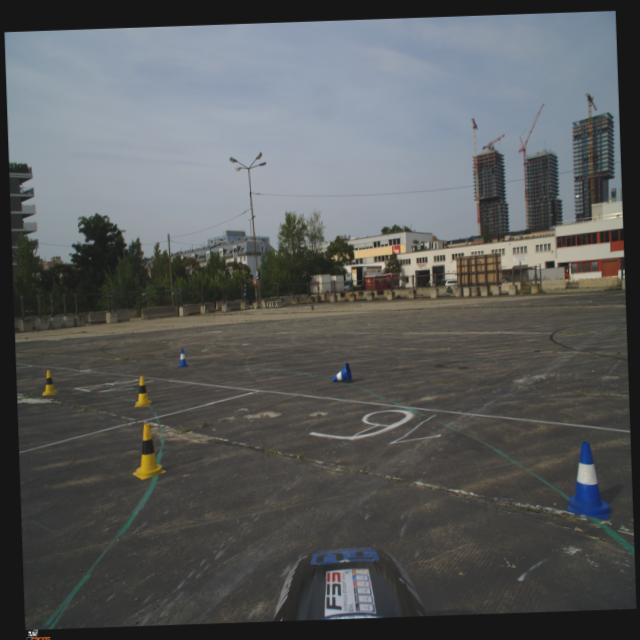blue_cone: (565, 440, 611, 520), (332, 362, 353, 382), (177, 348, 188, 368)
yellow_cone: (130, 422, 166, 480), (133, 374, 152, 406), (40, 370, 58, 396)
